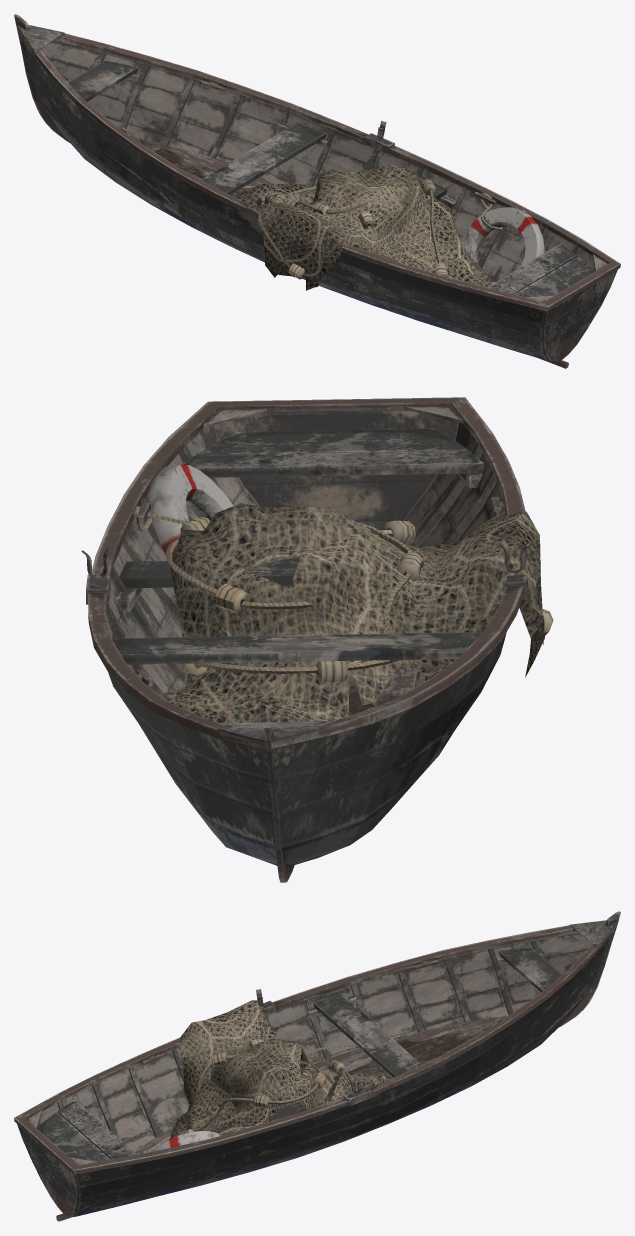
Rendered from ItemSpot.fbx.
3 renders of one model, top to bottom at view 1: azimuth 30°, elevation 25°; view 2: azimuth 150°, elevation 25°; view 3: azimuth 270°, elevation 25°, orthographic. The views are drawn at different scales.
Visible parts, largest first — view 1: ItemBox_Boat; view 2: ItemBox_Boat; view 3: ItemBox_Boat.
Boxes of the visible parts, bbox=[...] form: ItemBox_Boat: bbox=[14, 14, 620, 368]; ItemBox_Boat: bbox=[81, 397, 553, 882]; ItemBox_Boat: bbox=[14, 911, 620, 1221].
Size of the model in its own units: 3.78 by 2.2 by 6.38.
1 material, 1 textured.
